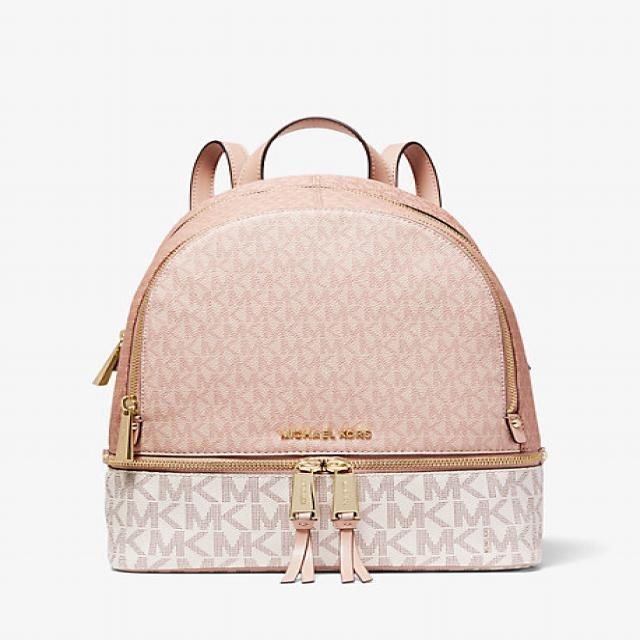Backpacks: (98, 175, 548, 574)
